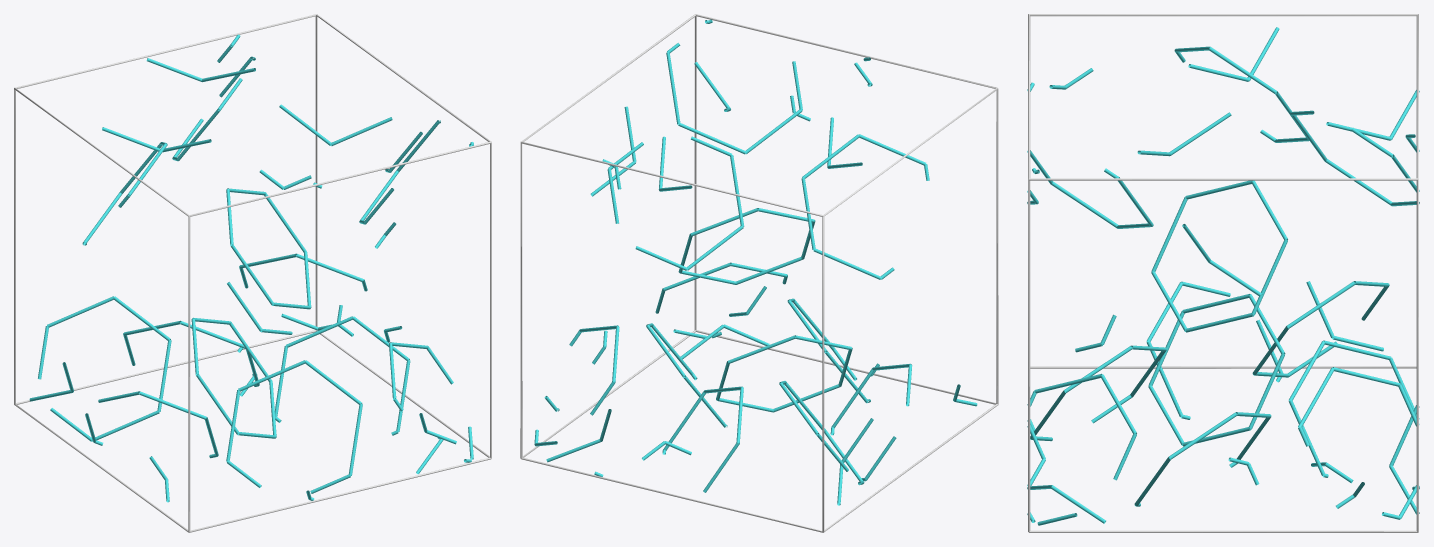
Rendered from DDD_000.glb.
The picture shows the model from 3 angles, left to right: view 1: azimuth 30°, elevation 25°; view 2: azimuth 150°, elevation 25°; view 3: azimuth 270°, elevation 25°; orthographic projection. The views are drawn at different scales.
Visible parts, largest first — view 1: Shape_IndexedLineSet.001, Shape_IndexedLineSet; view 2: Shape_IndexedLineSet.001, Shape_IndexedLineSet; view 3: Shape_IndexedLineSet.001, Shape_IndexedLineSet.
Part boxes in pixels (x1=…): Shape_IndexedLineSet.001: x1=29, y1=34, x2=473, y2=502; Shape_IndexedLineSet: x1=14, y1=14, x2=491, y2=532; Shape_IndexedLineSet.001: x1=534, y1=19, x2=977, y2=505; Shape_IndexedLineSet: x1=520, y1=14, x2=998, y2=532; Shape_IndexedLineSet.001: x1=1027, y1=27, x2=1419, y2=525; Shape_IndexedLineSet: x1=1028, y1=14, x2=1418, y2=532.
Size of the model in its own units: 10.09 by 10.09 by 10.09.
